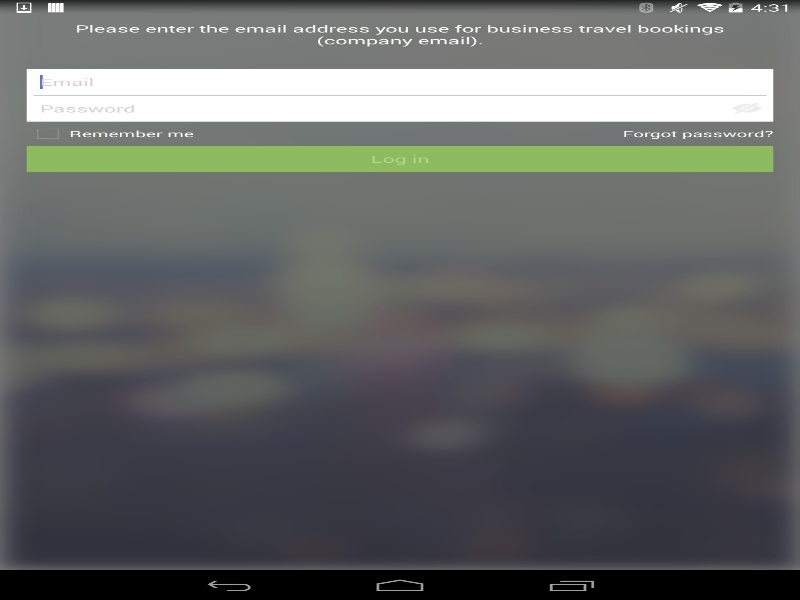Input: (26, 69, 720, 95), (26, 95, 720, 121)
